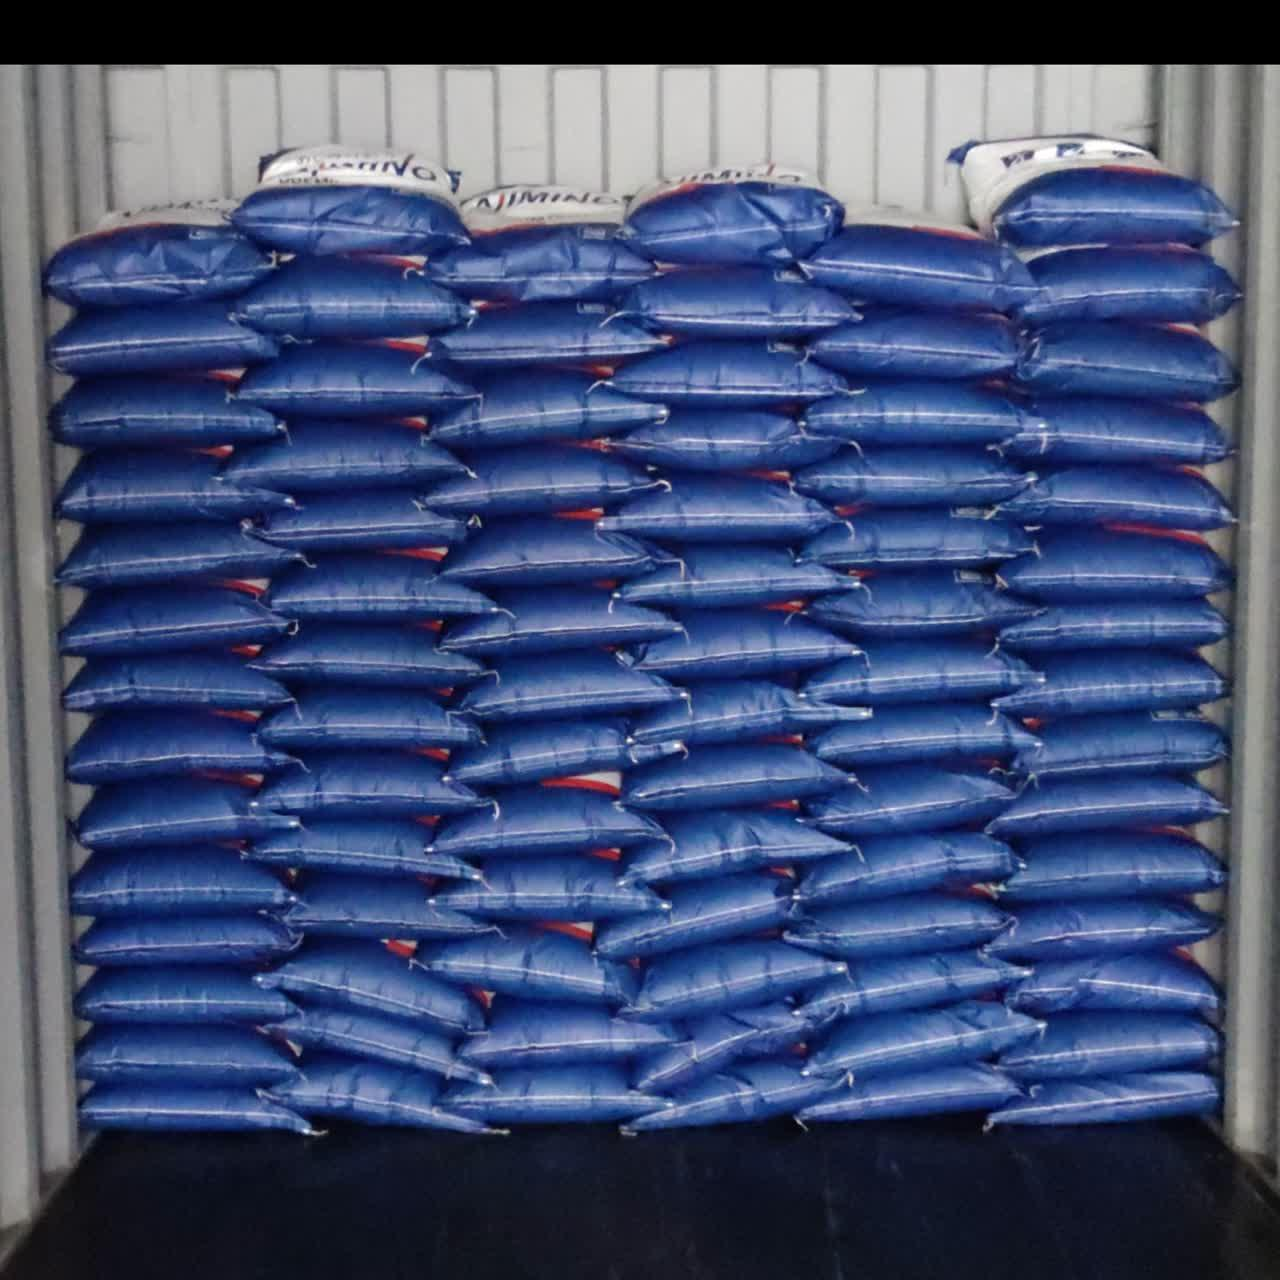sack: (948, 135, 1237, 248), (428, 185, 658, 304), (234, 144, 476, 257), (42, 198, 275, 311), (257, 940, 497, 1036), (622, 162, 843, 264), (234, 252, 472, 342), (799, 225, 1035, 314), (431, 365, 668, 450), (434, 771, 666, 857), (50, 368, 281, 452), (804, 1002, 1039, 1084), (238, 338, 476, 417), (60, 577, 292, 658), (67, 708, 304, 787), (56, 445, 290, 525), (1012, 320, 1235, 402), (636, 600, 857, 683), (423, 438, 655, 517), (257, 1008, 491, 1085), (223, 418, 464, 493), (430, 295, 663, 372), (998, 527, 1230, 604), (600, 470, 835, 545), (622, 940, 843, 1020), (801, 951, 1037, 1024), (268, 547, 497, 624), (1017, 248, 1239, 327), (48, 302, 279, 377), (785, 880, 1006, 958), (76, 771, 293, 850), (621, 268, 859, 340), (799, 832, 1022, 908), (420, 925, 632, 1005), (625, 811, 851, 885), (595, 874, 792, 959), (809, 762, 1033, 836), (443, 512, 659, 588), (442, 588, 679, 656), (802, 384, 1061, 447), (252, 620, 484, 689), (268, 1057, 482, 1132), (450, 717, 683, 785), (999, 833, 1224, 904), (636, 1005, 813, 1094), (1000, 1012, 1220, 1083), (808, 567, 1034, 636), (605, 343, 843, 409), (999, 714, 1226, 782), (1001, 397, 1228, 465), (72, 846, 291, 917), (458, 653, 678, 723), (622, 1060, 833, 1132), (806, 308, 1017, 381), (992, 651, 1225, 716), (64, 644, 290, 712), (57, 526, 302, 588), (622, 745, 850, 812), (436, 856, 660, 922), (1001, 467, 1232, 531), (1006, 952, 1220, 1021), (629, 681, 863, 744), (986, 776, 1223, 838), (259, 749, 478, 816), (801, 644, 1039, 704), (989, 899, 1218, 962), (621, 546, 853, 608), (802, 508, 1032, 570), (459, 1005, 673, 1071), (809, 706, 1032, 769), (259, 688, 476, 753), (795, 448, 1028, 508), (252, 816, 474, 878), (611, 411, 840, 471), (79, 1027, 295, 1088), (284, 874, 488, 939), (258, 492, 467, 554), (445, 1065, 665, 1124), (77, 968, 295, 1027), (999, 600, 1227, 655), (796, 1065, 1017, 1122), (988, 1073, 1218, 1125), (79, 917, 301, 966), (80, 1085, 311, 1132)
